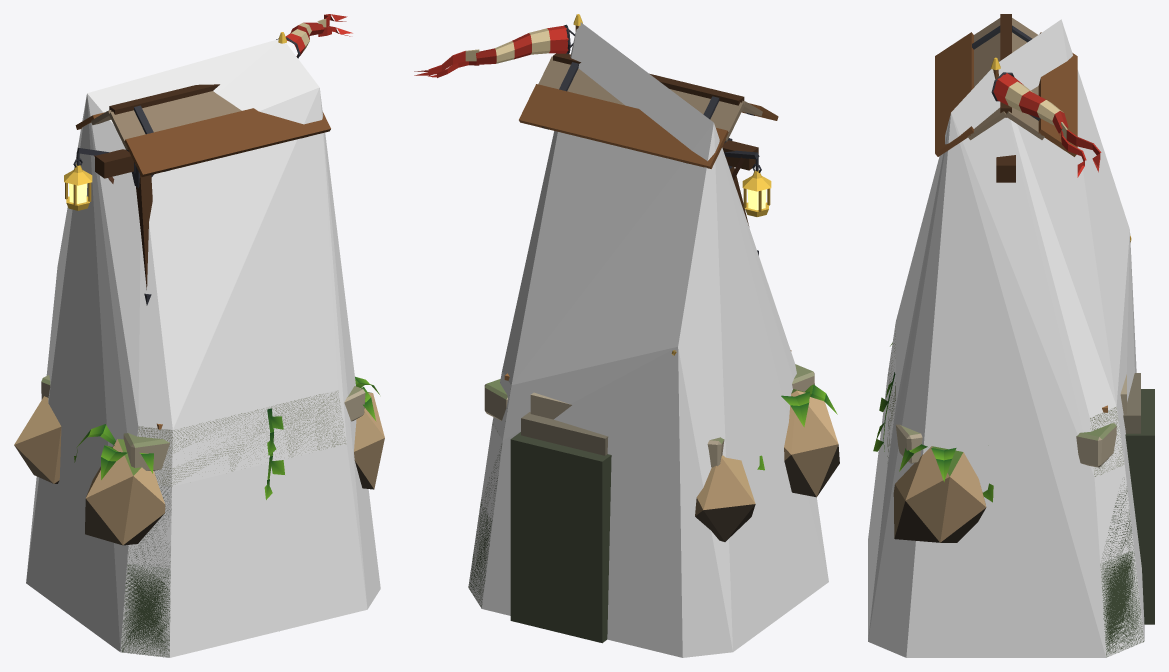
Rendered from pirate_lookout_bell_frame.glb.
3 renders of one model, left to right at view 1: azimuth 30°, elevation 25°; view 2: azimuth 150°, elevation 25°; view 3: azimuth 270°, elevation 25°, orthographic. The views are drawn at different scales.
Parts seen in each view (by area): view 1: col_bellframe_base, PirateLookoutBellFrame; view 2: col_bellframe_base, PirateLookoutBellFrame; view 3: col_bellframe_base, PirateLookoutBellFrame.
Boxes of the visible parts, bbox=[...] form: col_bellframe_base: bbox=[26, 39, 380, 657]; PirateLookoutBellFrame: bbox=[14, 14, 384, 657]; col_bellframe_base: bbox=[468, 22, 828, 657]; PirateLookoutBellFrame: bbox=[414, 14, 839, 643]; col_bellframe_base: bbox=[868, 19, 1144, 657]; PirateLookoutBellFrame: bbox=[873, 14, 1154, 657].
Size of the model in its own units: 7.16 by 10.84 by 4.94.
